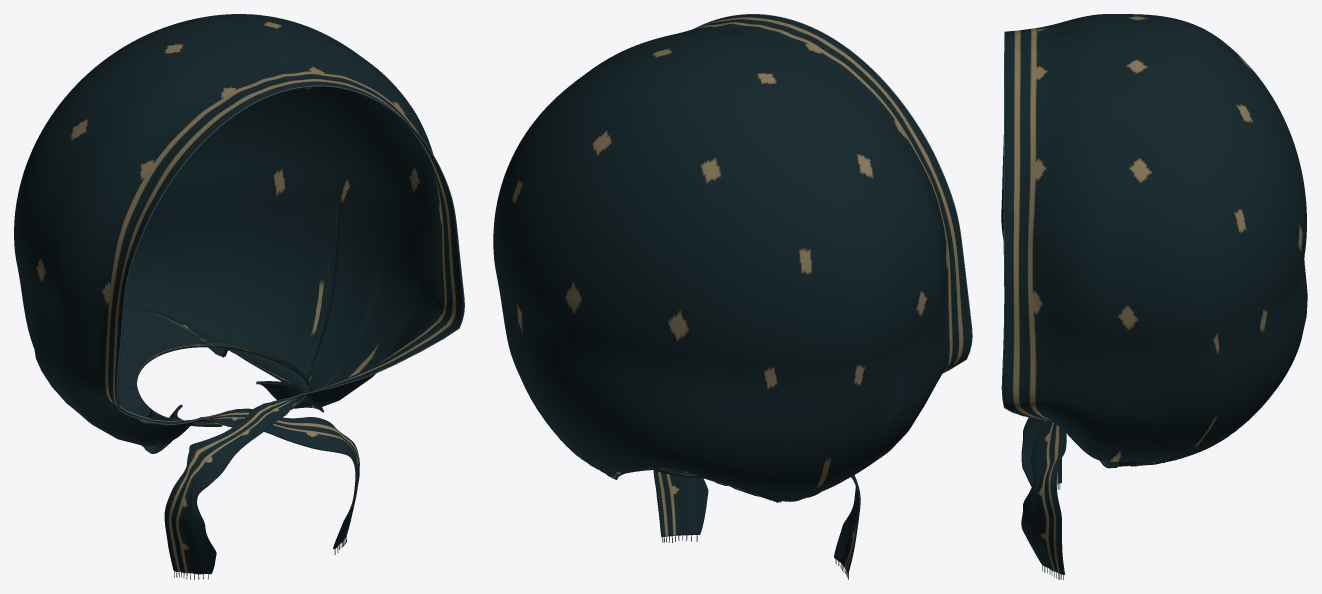
The model's file is Feminine-ponytail-tank-pashmina251-headgear.glb.
The picture shows the model from 3 angles, left to right: view 1: azimuth 30°, elevation 25°; view 2: azimuth 150°, elevation 25°; view 3: azimuth 270°, elevation 25°; orthographic projection. The views are drawn at different scales.
Visible parts, largest first — view 1: 226 headgear / Headwear / continuous woven pashmina239, 226 headgear / Headwear / face edge239; view 2: 226 headgear / Headwear / continuous woven pashmina239, 226 headgear / Headwear / face edge239; view 3: 226 headgear / Headwear / continuous woven pashmina239, 226 headgear / Headwear / face edge239.
Part boxes in pixels (x1=…): 226 headgear / Headwear / continuous woven pashmina239: x1=14, y1=14, x2=463, y2=574; 226 headgear / Headwear / face edge239: x1=116, y1=85, x2=464, y2=425; 226 headgear / Headwear / continuous woven pashmina239: x1=493, y1=14, x2=971, y2=573; 226 headgear / Headwear / face edge239: x1=694, y1=14, x2=972, y2=373; 226 headgear / Headwear / continuous woven pashmina239: x1=1001, y1=14, x2=1307, y2=574; 226 headgear / Headwear / face edge239: x1=1001, y1=31, x2=1040, y2=419.
Bounding box in the file's own units: 1.07 × 1.38 × 0.7569.
Materials: 3 (1 with a texture image).
